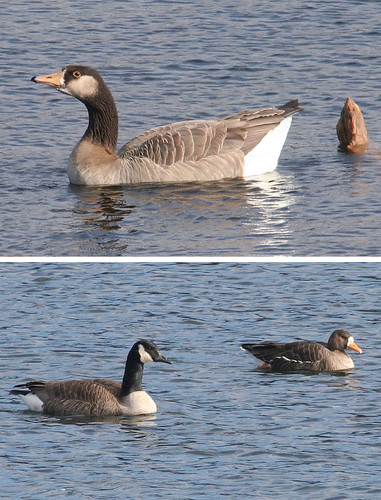goose: (29, 62, 303, 182), (9, 337, 173, 416)
